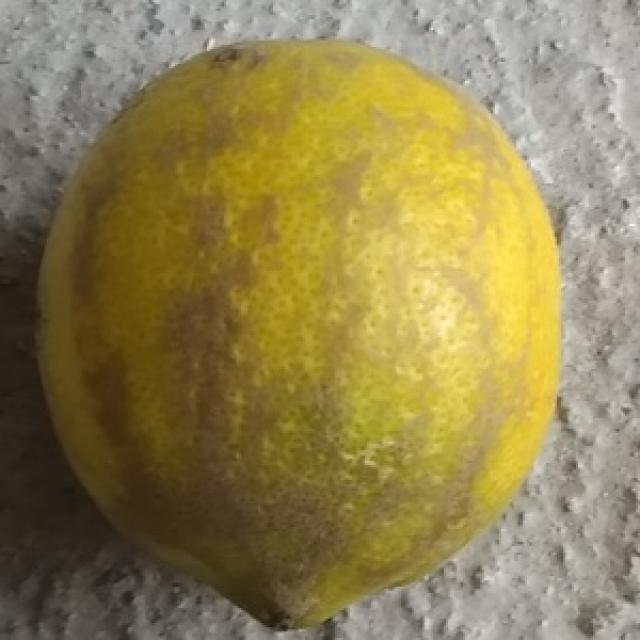overripe: (28, 26, 570, 634)
